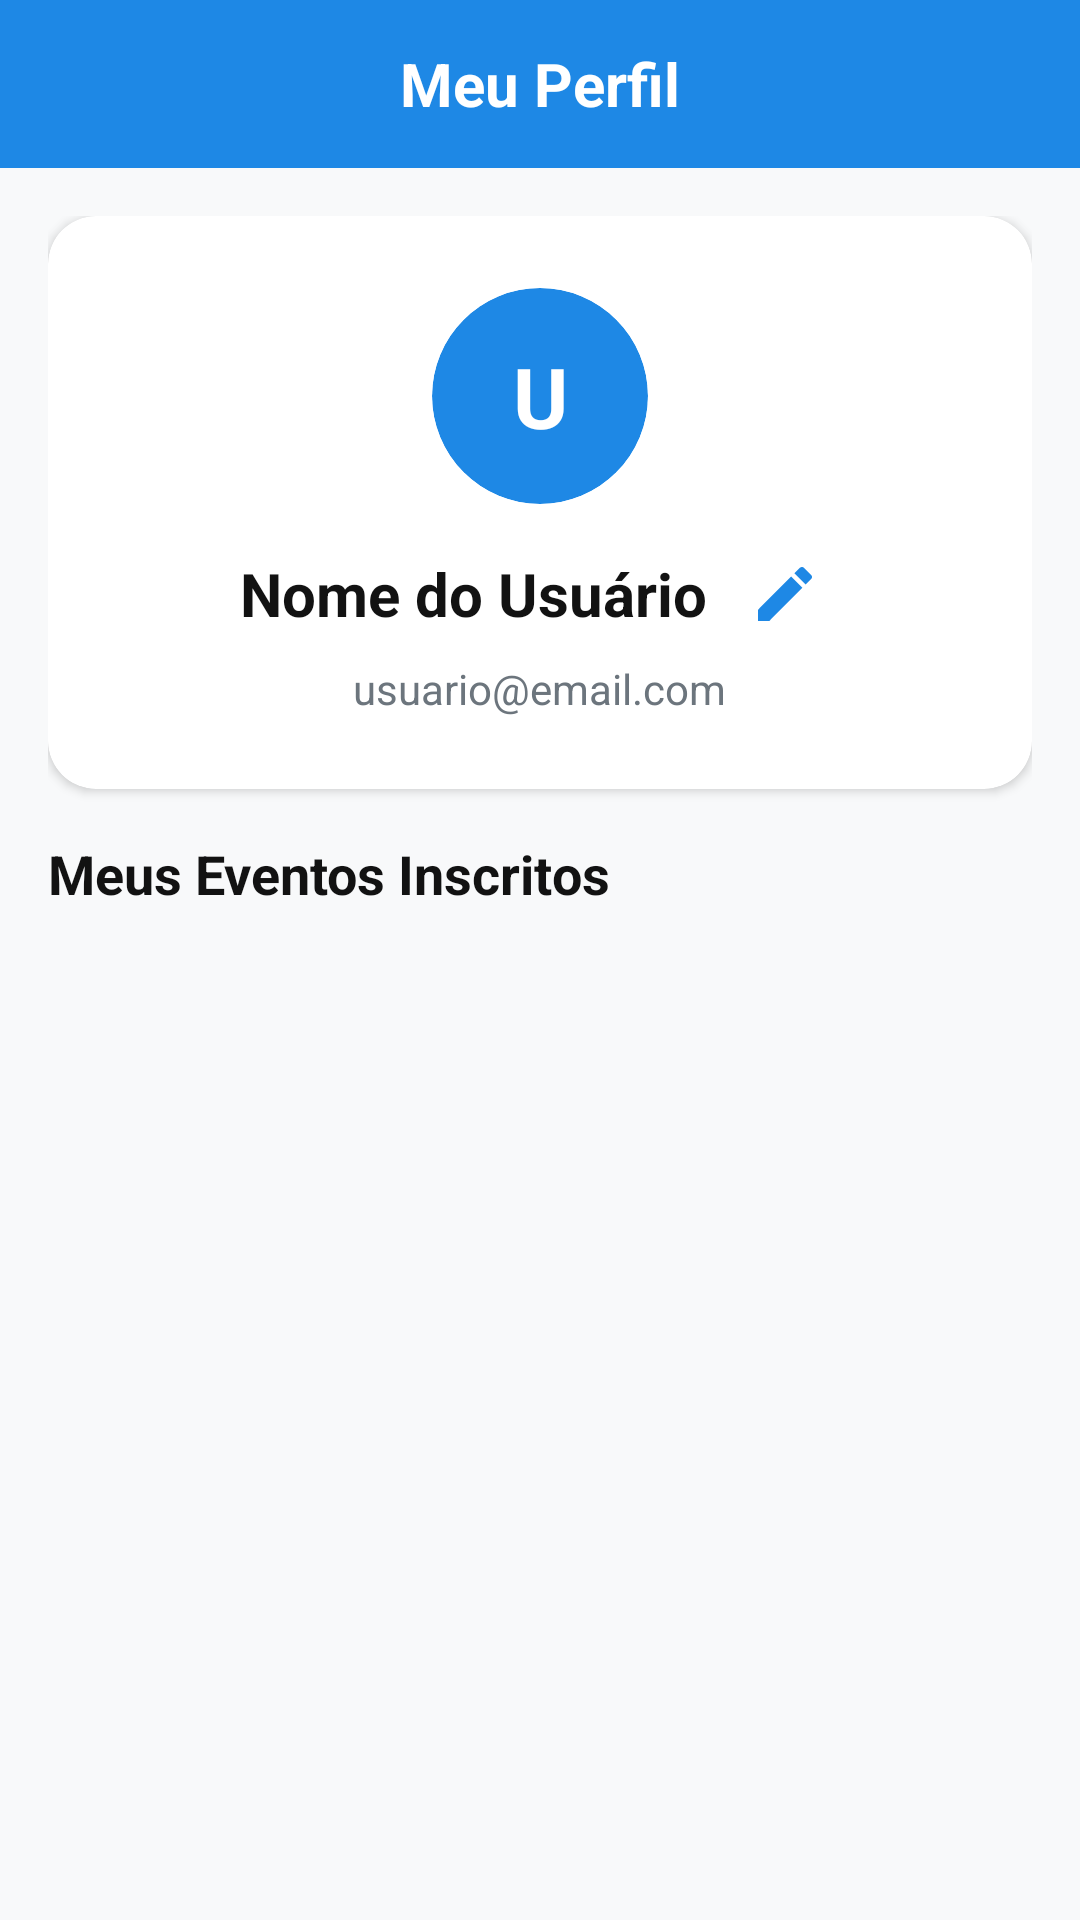

Icon bounding boxes for this 1080x1920 phone screenshot, format (x1, y1, x2, y2):
Editar Perfil: (758, 567, 812, 621)
